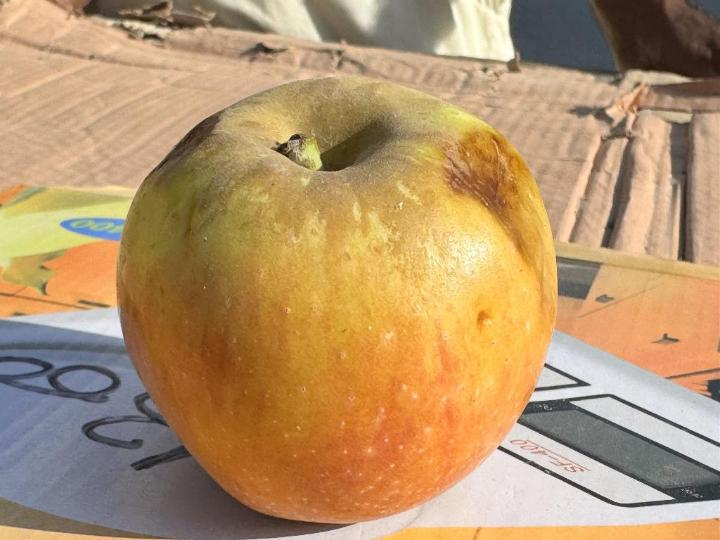apple: (117, 78, 557, 523)
bruise_discoloration: (193, 77, 451, 240)
rot_mold_decay: (443, 127, 551, 267), (151, 111, 222, 174)
